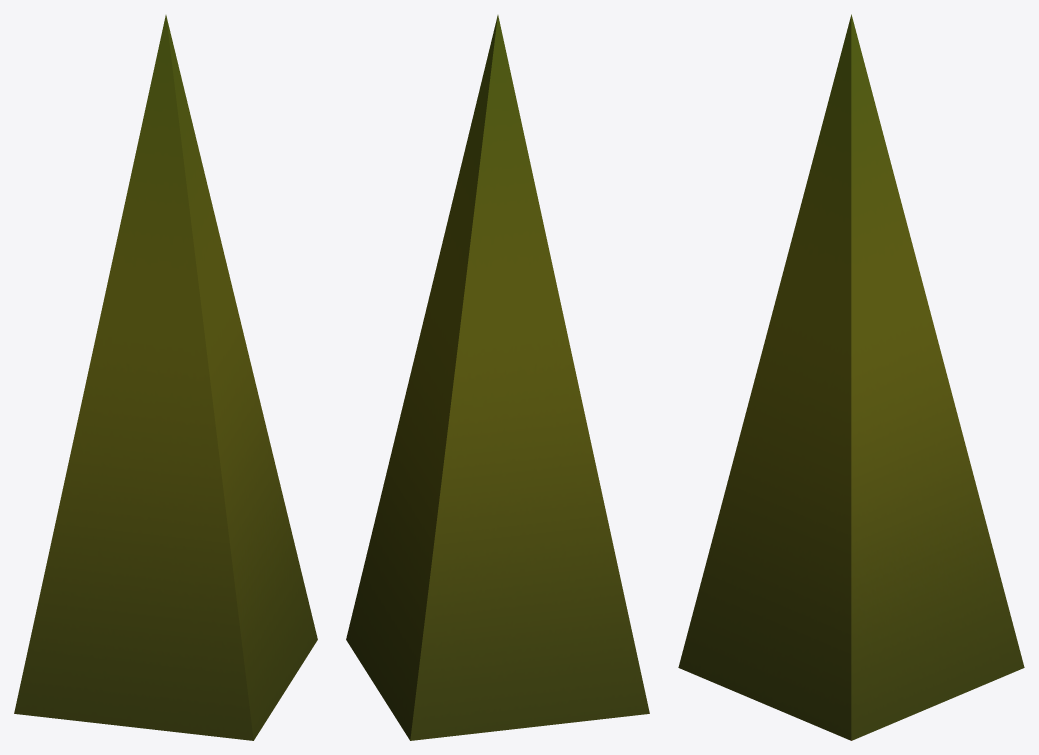
File: Snowy_Plant_001.FBX
The picture shows the model from 3 angles, left to right: view 1: azimuth 30°, elevation 25°; view 2: azimuth 150°, elevation 25°; view 3: azimuth 270°, elevation 25°; orthographic projection.
Visible parts, largest first — view 1: Snowy_Plant_001; view 2: Snowy_Plant_001; view 3: Snowy_Plant_001.
Part boxes in pixels (box(x1,y1,x2,y2)): Snowy_Plant_001: box(14, 15, 317, 740); Snowy_Plant_001: box(346, 15, 649, 740); Snowy_Plant_001: box(678, 14, 1024, 740).
Size of the model in its own units: 83.89 by 175 by 83.89.
Materials: 1 (1 with a texture image).
